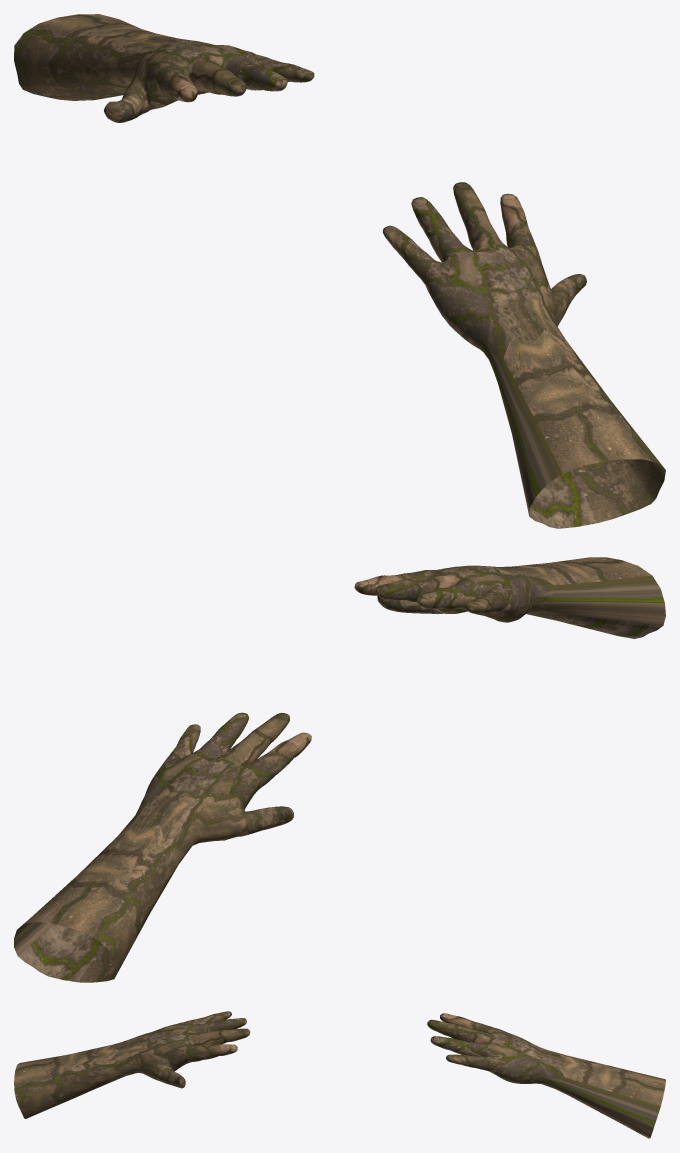
File: hands_000020.obj
3 renders of one model, top to bottom at view 1: azimuth 30°, elevation 25°; view 2: azimuth 150°, elevation 25°; view 3: azimuth 270°, elevation 25°, orthographic. The views are drawn at different scales.
Visible parts, largest first — view 1: hand.001_Mesh.001, hand_Mesh; view 2: hand_Mesh, hand.001_Mesh.001; view 3: hand_Mesh, hand.001_Mesh.001.
Part boxes in pixels (bbox=[...]): hand.001_Mesh.001: bbox=[382, 182, 665, 528]; hand_Mesh: bbox=[14, 14, 314, 122]; hand_Mesh: bbox=[14, 712, 311, 982]; hand.001_Mesh.001: bbox=[354, 557, 665, 638]; hand_Mesh: bbox=[427, 1013, 665, 1138]; hand.001_Mesh.001: bbox=[14, 1011, 250, 1118].
Bounding box in the file's own units: 1.58 × 1.45 × 8.33.
Materials: 1 (1 with a texture image).
